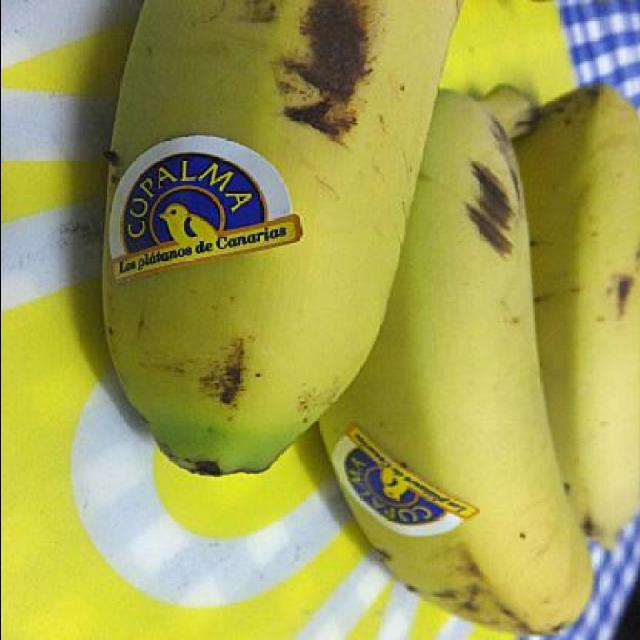Banana: (102, 0, 467, 472), (316, 91, 594, 634), (509, 83, 640, 552)
